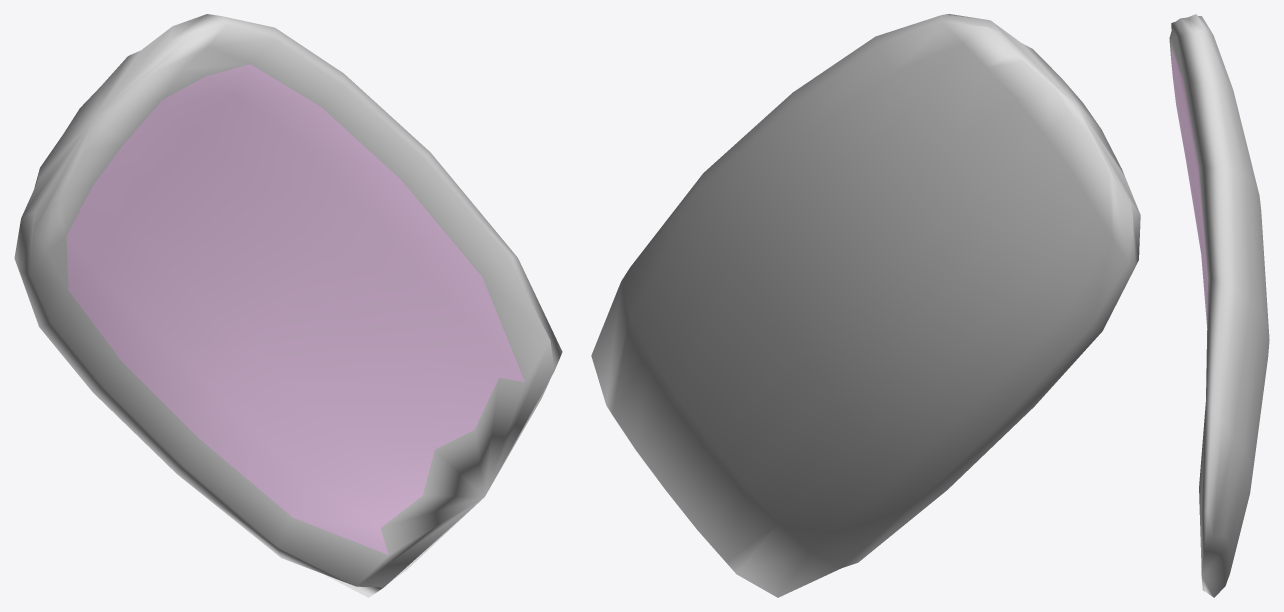
File: Floppy.fbx
The picture shows the model from 3 angles, left to right: view 1: azimuth 30°, elevation 25°; view 2: azimuth 150°, elevation 25°; view 3: azimuth 270°, elevation 25°; orthographic projection. The views are drawn at different scales.
Parts seen in each view (by area): view 1: Floppy; view 2: Floppy; view 3: Floppy.
Part boxes in pixels (x1=…): Floppy: x1=14, y1=14, x2=562, y2=597; Floppy: x1=591, y1=14, x2=1140, y2=597; Floppy: x1=1169, y1=14, x2=1269, y2=597.
Size of the model in its own units: 109 by 119 by 21.47.
